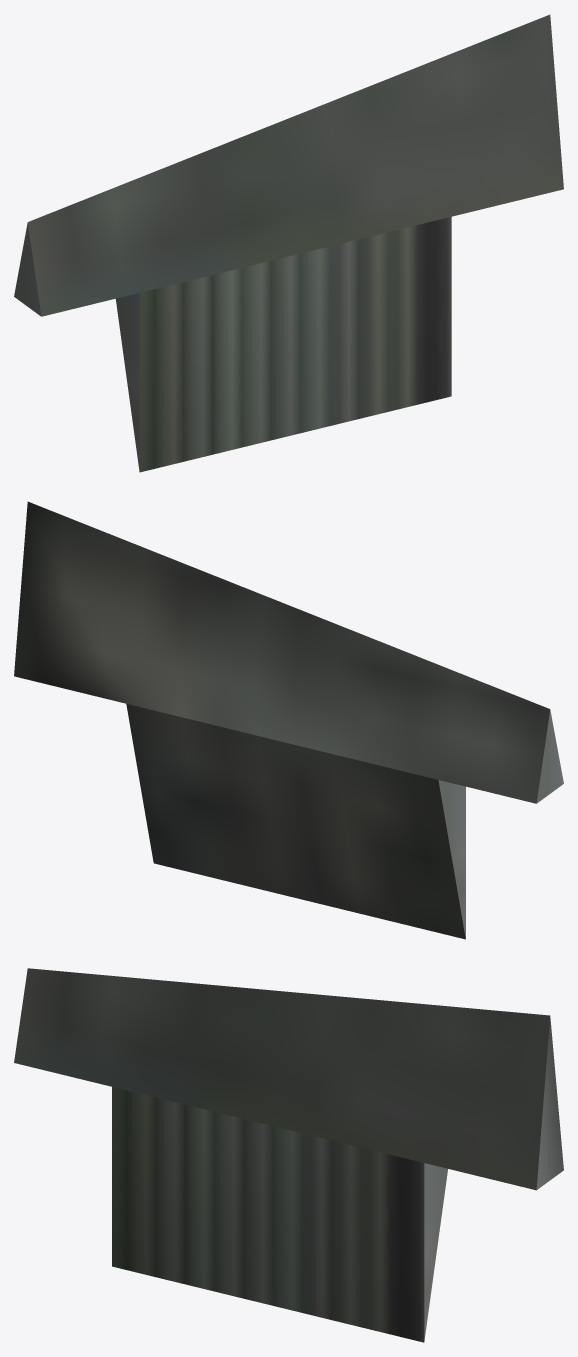
Rendered from xwing_debris_f_l1.fbx.
The picture shows the model from 3 angles, top to bottom: view 1: azimuth 30°, elevation 25°; view 2: azimuth 150°, elevation 25°; view 3: azimuth 330°, elevation 25°; orthographic projection.
Parts seen in each view (by area): view 1: mesh_node; view 2: mesh_node; view 3: mesh_node.
Part boxes in pixels (left/top/right/bottom): mesh_node: left=14, top=14, right=563, bottom=472; mesh_node: left=14, top=501, right=563, bottom=939; mesh_node: left=14, top=968, right=563, bottom=1342.
Size of the model in its own units: 0.9976 by 0.6286 by 0.0907.
1 material, 1 textured.
